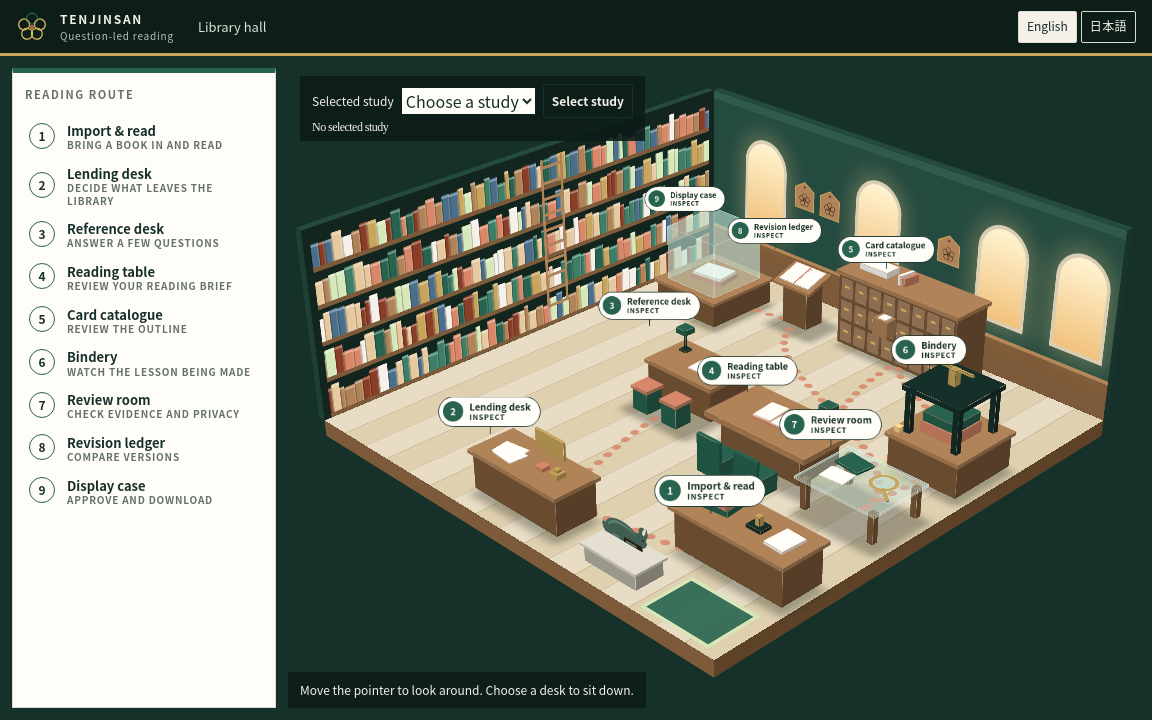
it: Given the language switch › When Japanese is chosen Then the shell switches, the choice is remembered and announced
This screenshot has width=1152, height=720.
Click the button "日本語" at [1108, 26], box 1081,10 -> 1136,42
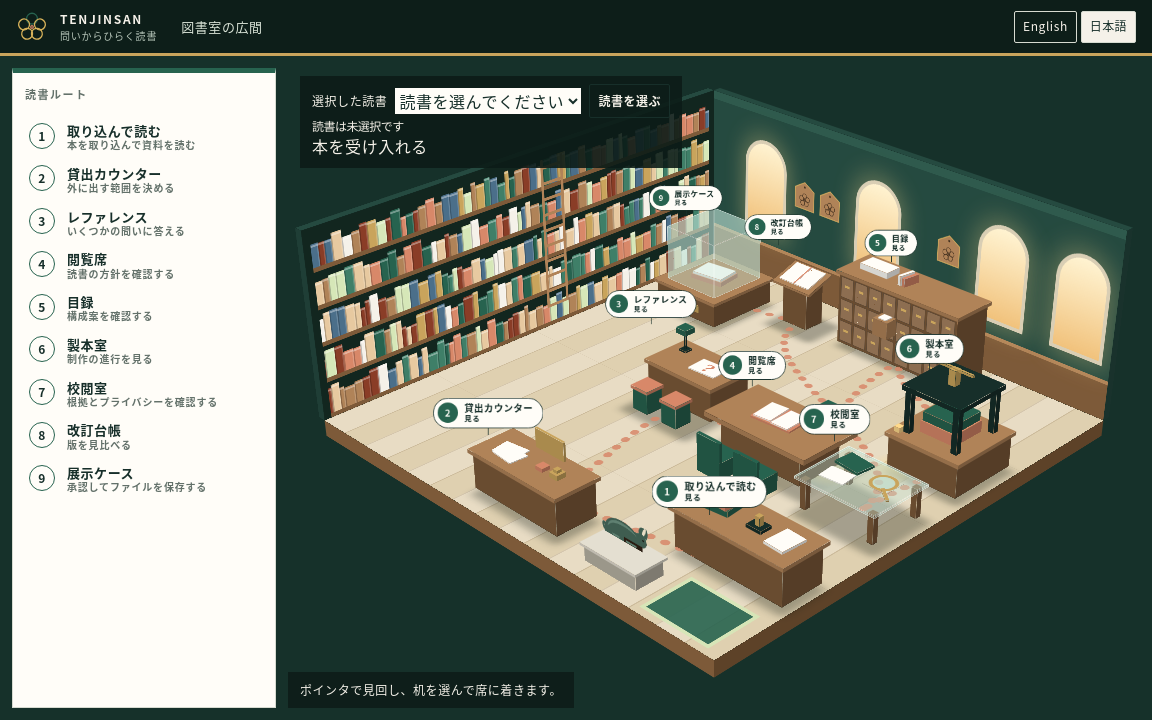
Result: the navigation bar "読書ルート" is shown at 12,68 -> 276,708
